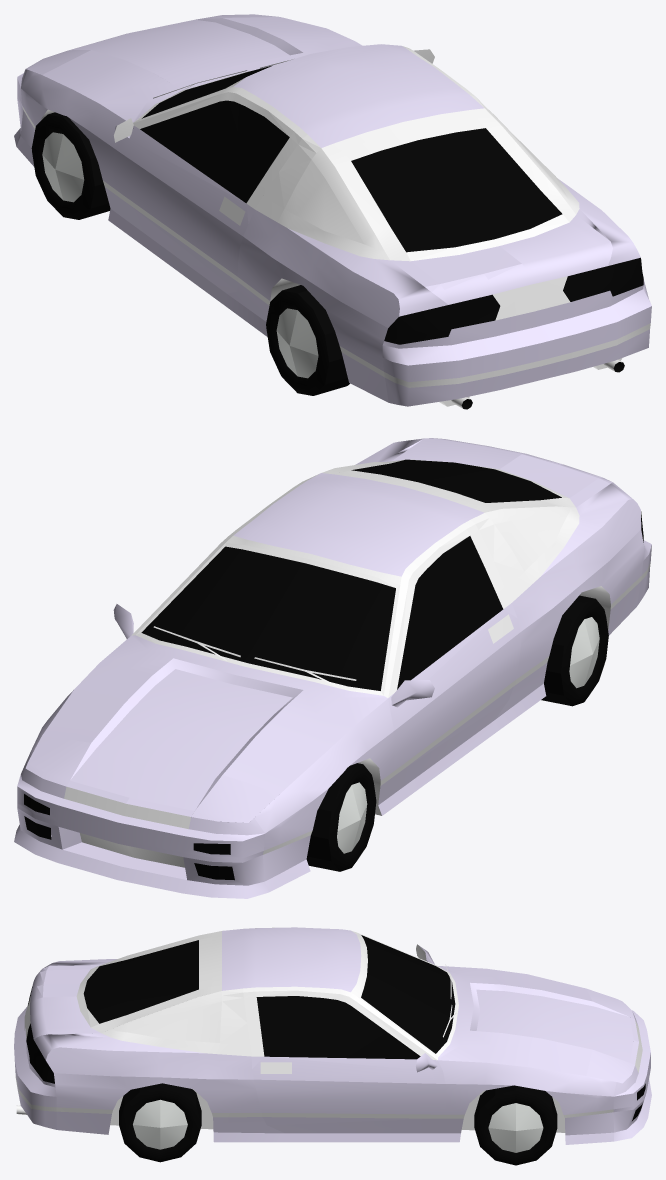
The picture shows the model from 3 angles, top to bottom: view 1: azimuth 30°, elevation 25°; view 2: azimuth 150°, elevation 25°; view 3: azimuth 270°, elevation 25°; orthographic projection. The views are drawn at different scales.
Visible parts, largest first — view 1: chassis, boot_ok, door_lf_ok, bonnet_ok, bump_rear_ok, wheel.002, wheel.003, rearglass, windscreen_ok, licenseplate, f_popl; view 2: chassis, bonnet_ok, door_lf_ok, windscreen_ok, bump_front_ok, boot_ok, wheel.003, wheel.002, f_popl, f_popr; view 3: chassis, door_rf_ok, bonnet_ok, boot_ok, windscreen_ok, wheel, wheel.001, bump_front_ok, bump_rear_ok, f_popr, rearglass, f_popl.
Boxes of the visible parts, left/top/right/bottom form: chassis: left=16, top=44, right=644, bottom=402; boot_ok: left=327, top=115, right=612, bottom=304; door_lf_ok: left=113, top=92, right=301, bottom=293; bonnet_ok: left=42, top=17, right=362, bottom=122; bump_rear_ok: left=382, top=282, right=651, bottom=406; wheel.002: left=266, top=285, right=349, bottom=395; wheel.003: left=31, top=112, right=110, bottom=219; rearglass: left=384, top=257, right=643, bottom=344; windscreen_ok: left=142, top=65, right=272, bottom=118; licenseplate: left=514, top=282, right=551, bottom=313; f_popl: left=25, top=50, right=90, bottom=74; chassis: left=21, top=438, right=644, bottom=892; bonnet_ok: left=42, top=635, right=387, bottom=810; door_lf_ok: left=388, top=524, right=520, bottom=794; windscreen_ok: left=141, top=546, right=395, bottom=690; bump_front_ok: left=14, top=763, right=268, bottom=898; boot_ok: left=327, top=438, right=612, bottom=510; wheel.003: left=306, top=763, right=376, bottom=871; wheel.002: left=541, top=595, right=608, bottom=706; f_popl: left=191, top=775, right=279, bottom=822; f_popr: left=25, top=735, right=90, bottom=786; chassis: left=25, top=927, right=616, bottom=1144; door_rf_ok: left=243, top=990, right=446, bottom=1133; bonnet_ok: left=438, top=966, right=633, bottom=1075; boot_ok: left=30, top=933, right=212, bottom=1039; windscreen_ok: left=361, top=935, right=455, bottom=1053; wheel: left=474, top=1085, right=557, bottom=1165; wheel.001: left=119, top=1083, right=201, bottom=1162; bump_front_ok: left=613, top=1010, right=651, bottom=1141; bump_rear_ok: left=14, top=1007, right=56, bottom=1129; f_popr: left=586, top=1050, right=634, bottom=1083; rearglass: left=26, top=986, right=54, bottom=1083; f_popl: left=586, top=988, right=634, bottom=1019.
Bounding box in the file's own units: 2.36 × 1.51 × 5.38.
